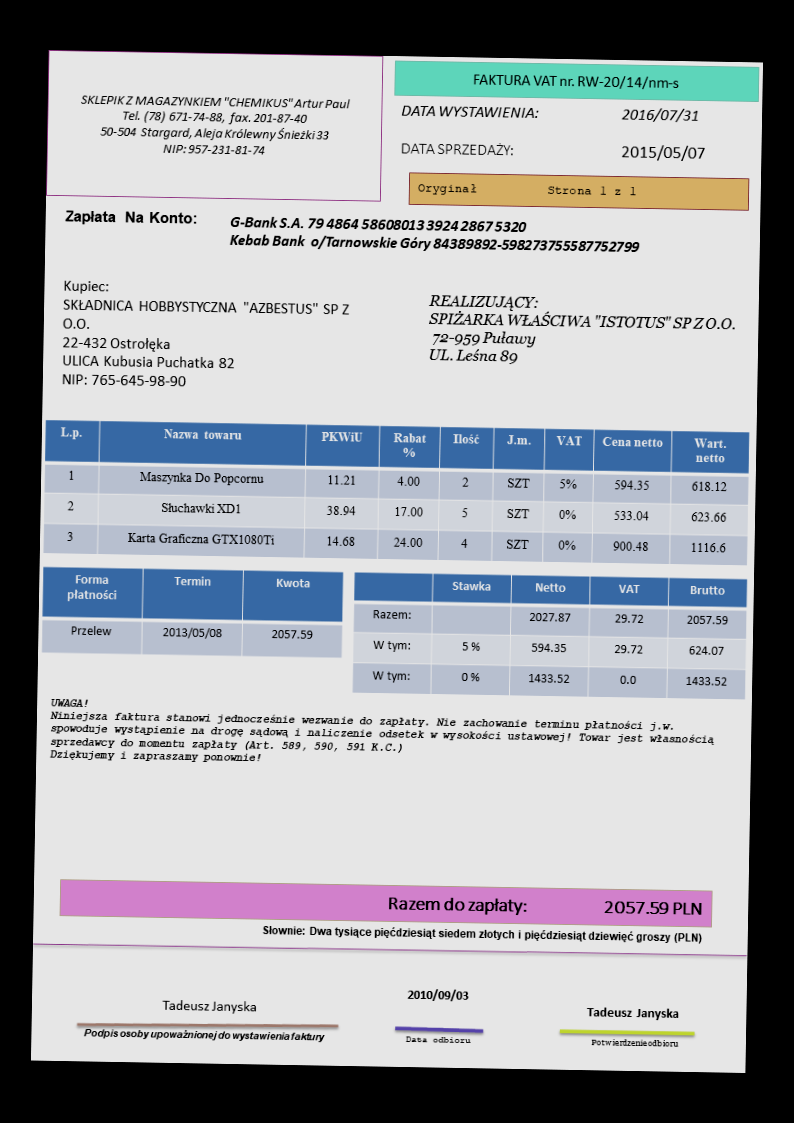Table: (42, 418, 751, 567), (351, 570, 748, 701), (40, 565, 345, 660)
TextBox: (48, 694, 719, 774), (58, 276, 352, 392), (424, 291, 739, 372), (75, 87, 353, 161), (226, 212, 642, 257), (259, 921, 704, 947), (385, 889, 706, 919), (469, 66, 681, 94), (80, 1022, 328, 1045), (415, 178, 640, 202), (398, 99, 541, 122), (398, 136, 516, 161), (63, 206, 198, 227), (617, 141, 709, 164), (585, 1002, 683, 1023), (160, 995, 259, 1015), (618, 104, 700, 124), (589, 1036, 680, 1051), (405, 984, 471, 1003), (403, 1032, 472, 1048)
